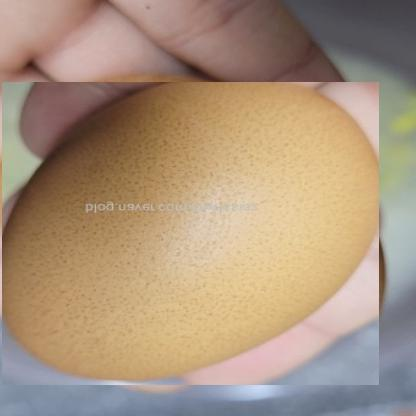egg: (1, 81, 379, 385)
